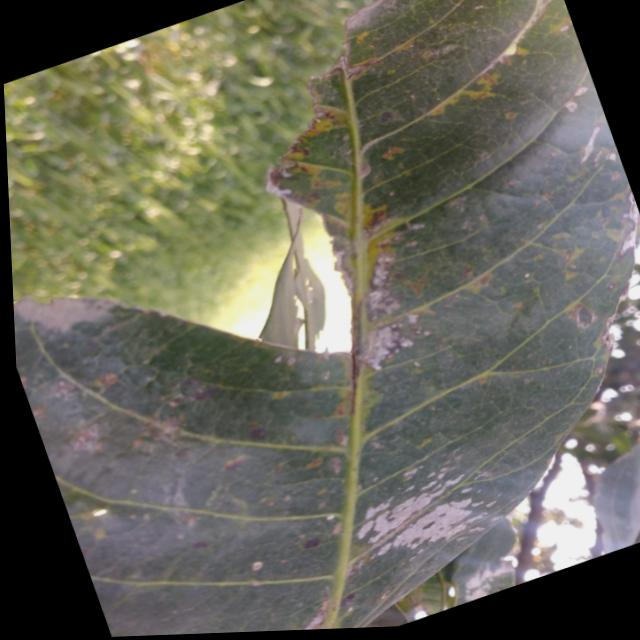Powdery Mildew: (363, 482, 493, 572), (349, 460, 470, 548), (373, 488, 483, 575), (456, 549, 517, 610), (14, 297, 115, 330), (352, 315, 407, 370), (367, 249, 400, 317), (576, 124, 605, 164), (263, 164, 295, 199), (70, 422, 102, 454), (564, 97, 580, 113)
